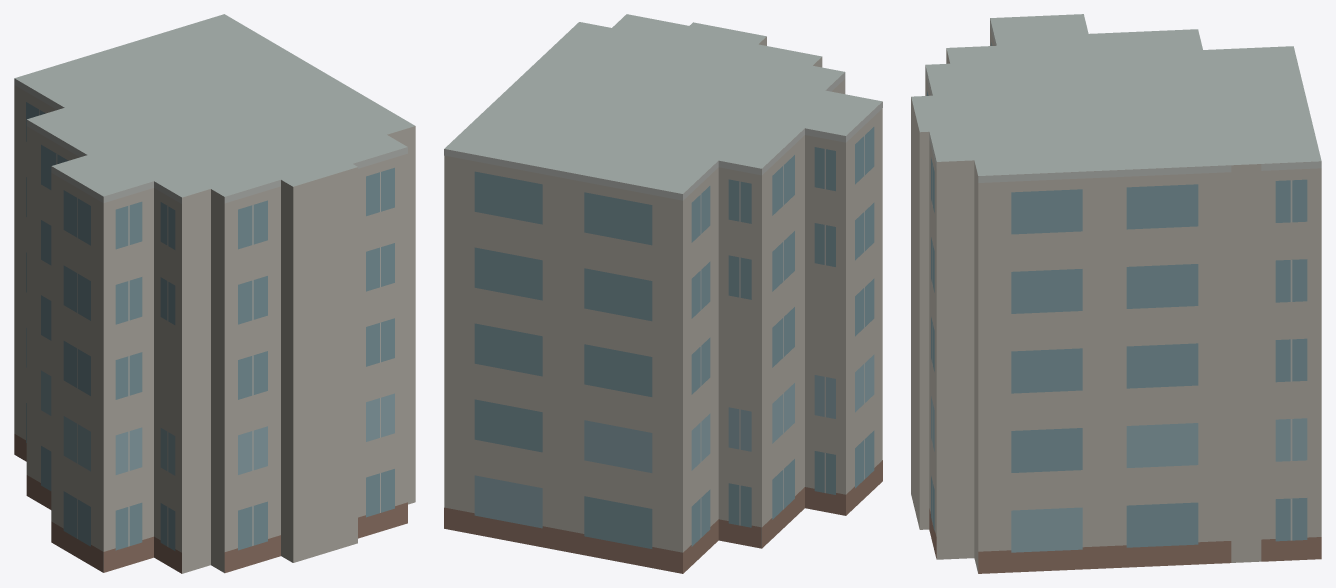
File: survey-upis-32912769.glb
3 renders of one model, left to right at view 1: azimuth 30°, elevation 25°; view 2: azimuth 150°, elevation 25°; view 3: azimuth 270°, elevation 25°, orthographic. The views are drawn at different scales.
Visible parts, largest first — view 1: survey-upis-32912769.tmp; view 2: survey-upis-32912769.tmp; view 3: survey-upis-32912769.tmp.
Part boxes in pixels (left/top/right/bottom): survey-upis-32912769.tmp: left=14, top=14, right=415, bottom=573; survey-upis-32912769.tmp: left=444, top=14, right=882, bottom=573; survey-upis-32912769.tmp: left=911, top=14, right=1321, bottom=573.
Bounding box in the file's own units: 12.16 × 13.9 × 13.01.
